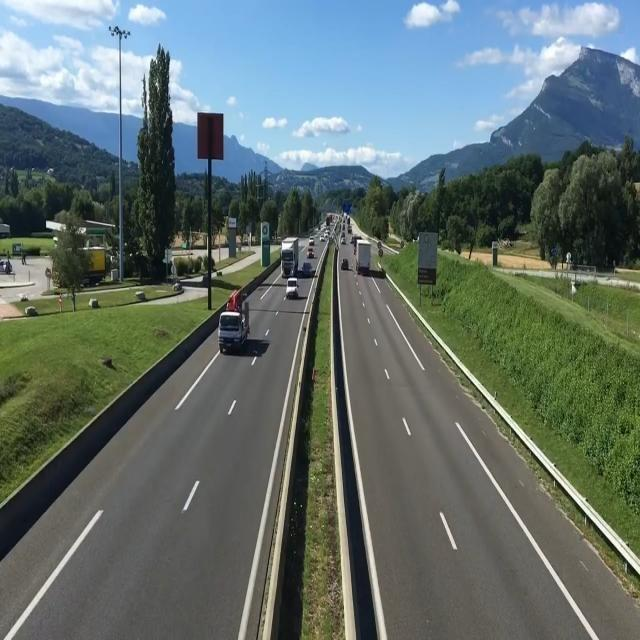Car: (286, 278, 300, 298), (307, 246, 315, 258), (308, 235, 315, 246)
Truck: (217, 286, 250, 354), (280, 236, 300, 278), (354, 238, 372, 276)
